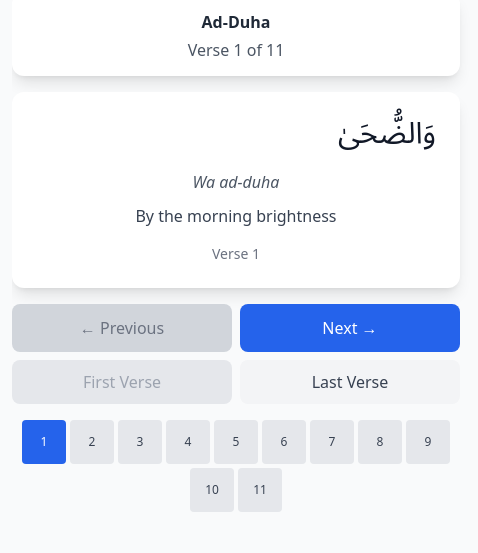
Test: Ad-Duha Reading Mode - Verse Number Indexing › should navigate correctly using Next button
Expected: the text "Verse 1 of 11" is shown, [188, 39, 284, 61]
Click the button "Next →": (350, 328) [240, 304, 460, 352]
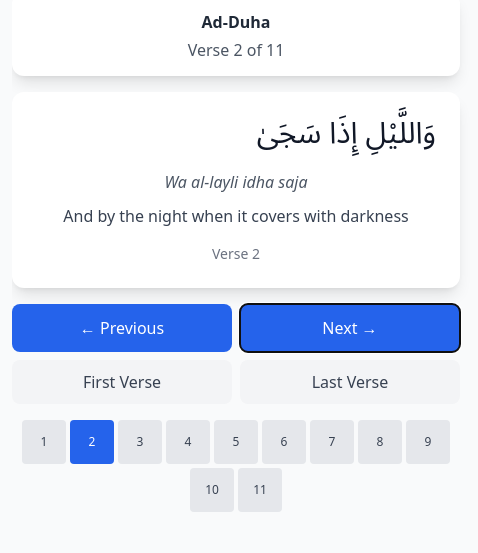
Click the button "Next →": (350, 328) [240, 304, 460, 352]
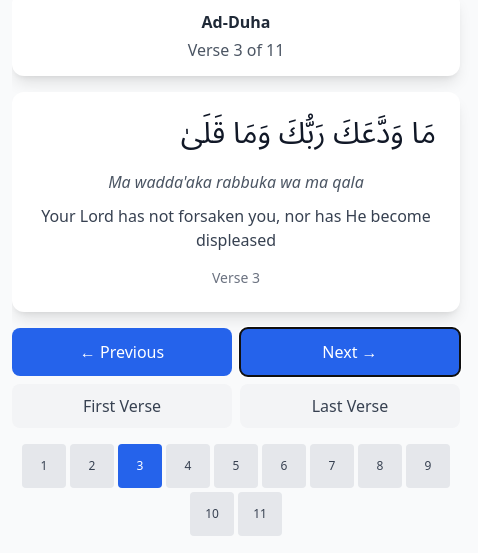
Click the button "Next →": (350, 352) [240, 328, 460, 376]
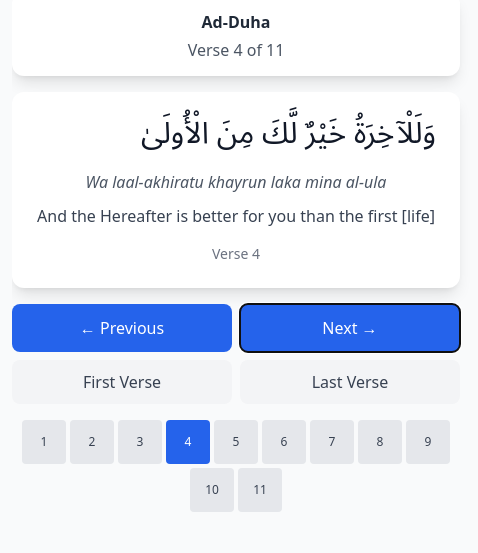
Click the button "Next →": (350, 328) [240, 304, 460, 352]
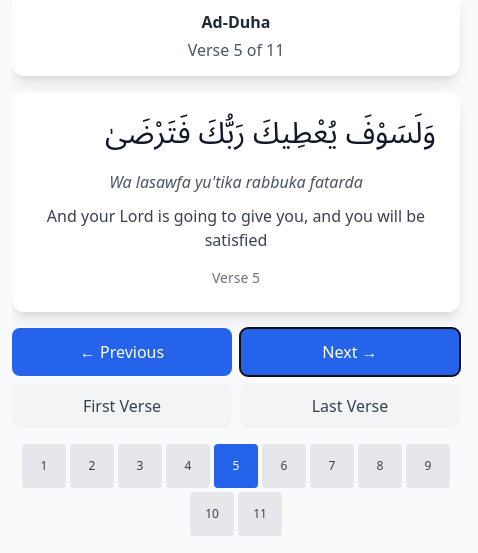
Now the text "Verse 5 of 11" is shown, box [188, 39, 284, 61]
